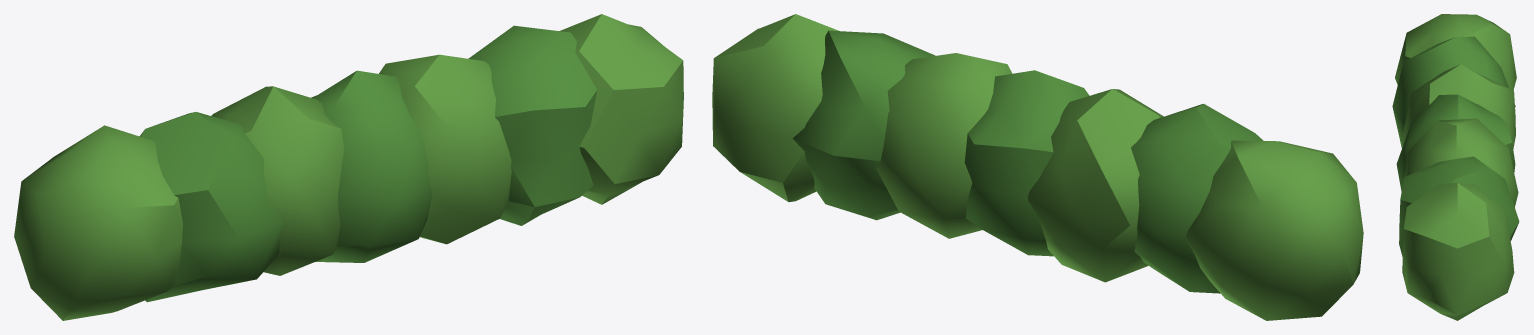
File: hedge_block.glb
3 views of the same model, side by side, from view 1: azimuth 30°, elevation 25°; view 2: azimuth 150°, elevation 25°; view 3: azimuth 270°, elevation 25° (orthographic). The views are drawn at different scales.
Visible parts, largest first — view 1: hedge; view 2: hedge; view 3: hedge.
Part boxes in pixels (<box>): hedge: <box>14,14,683,320</box>; hedge: <box>712,14,1363,320</box>; hedge: <box>1392,14,1519,320</box>.
Bounding box in the file's own units: 4.81 × 1.38 × 1.12.
